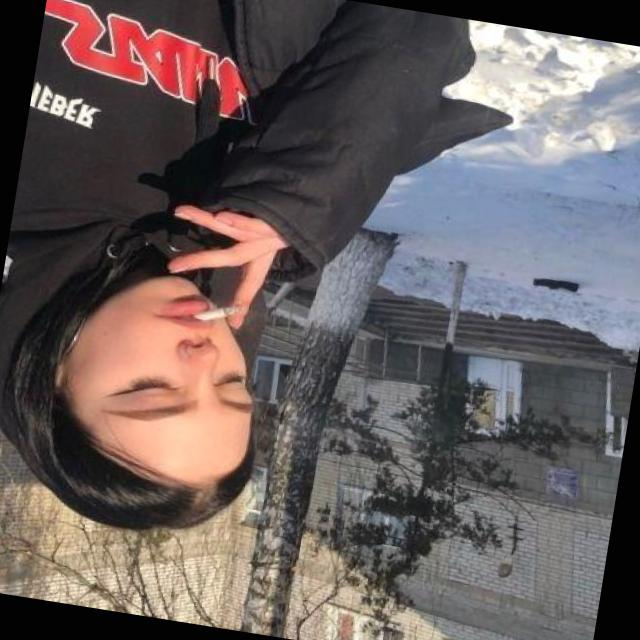smoke: (180, 284, 258, 342)
